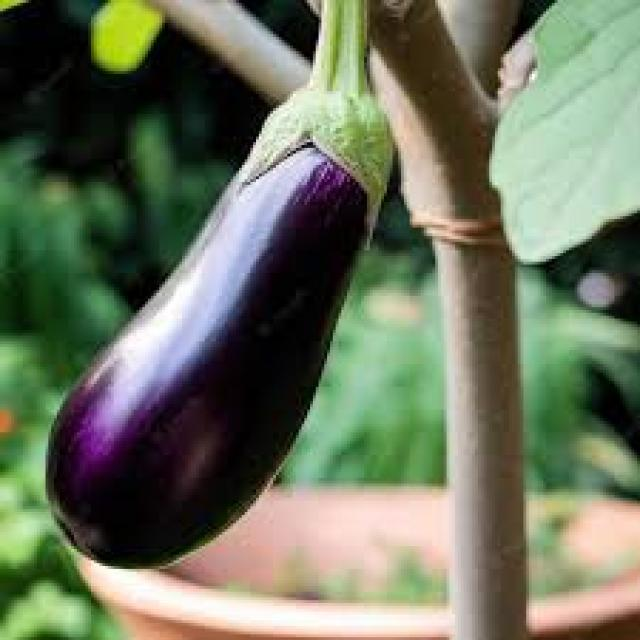Eggplant: (41, 12, 397, 573)
